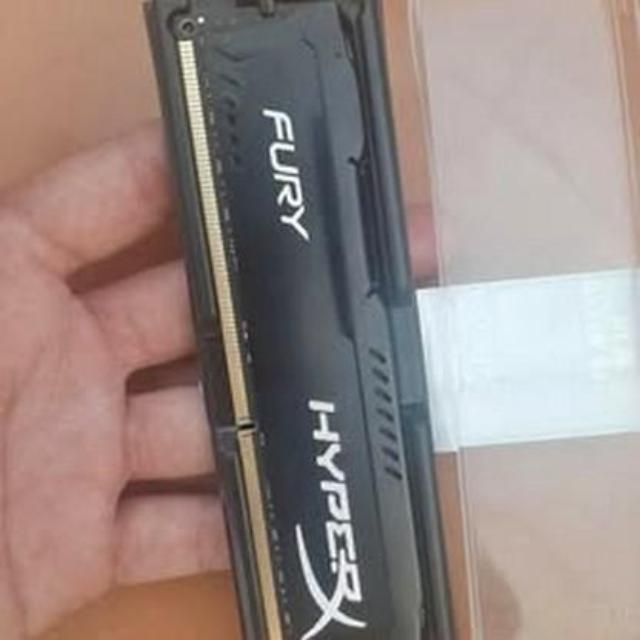RAM: (172, 0, 440, 640)
